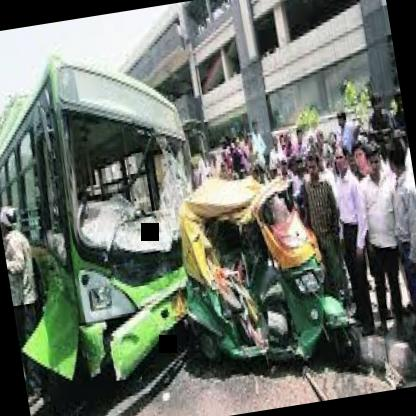accident: (0, 12, 372, 416)
